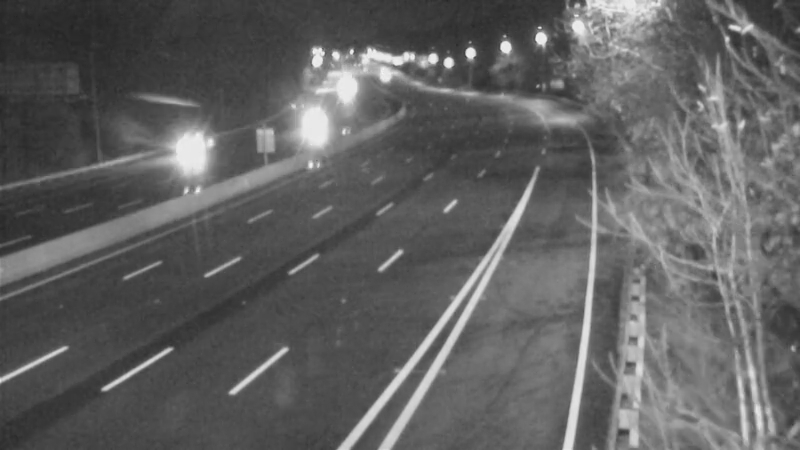vehicle: (167, 123, 217, 173), (292, 100, 342, 150), (319, 63, 369, 113)
